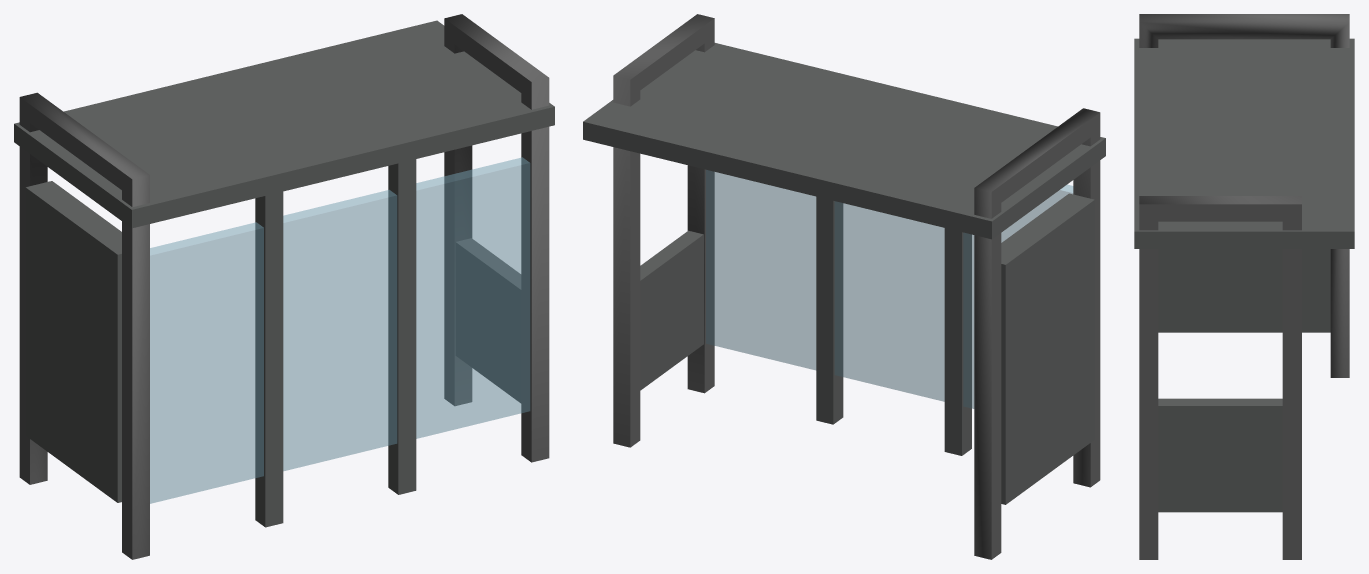
File: Bus Stops.glb
The picture shows the model from 3 angles, left to right: view 1: azimuth 30°, elevation 25°; view 2: azimuth 150°, elevation 25°; view 3: azimuth 270°, elevation 25°; orthographic projection. The views are drawn at different scales.
Parts seen in each view (by area): view 1: Root; view 2: Root; view 3: Root.
Boxes of the visible parts, bbox=[...] form: Root: bbox=[14, 14, 554, 559]; Root: bbox=[583, 14, 1105, 559]; Root: bbox=[1134, 14, 1354, 559].
Bounding box in the file's own units: 2.39 × 2.05 × 1.15.
